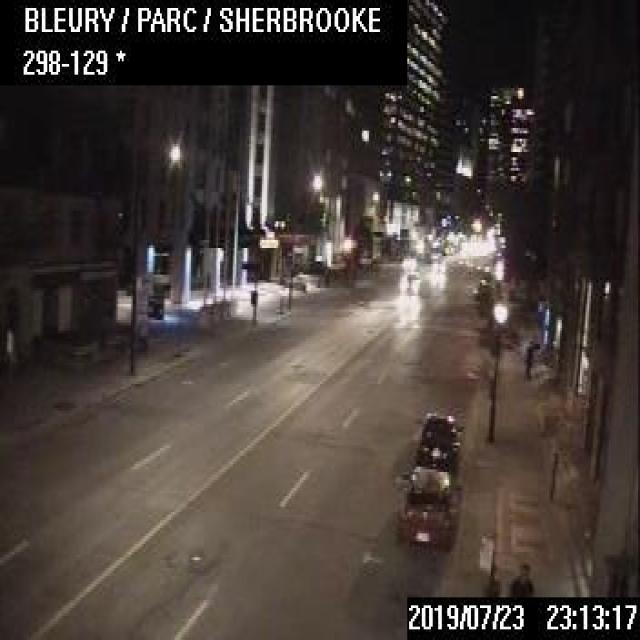pedestrian: (507, 557, 535, 595)
vehicle: (398, 464, 460, 547), (412, 410, 463, 464), (398, 269, 420, 293)
